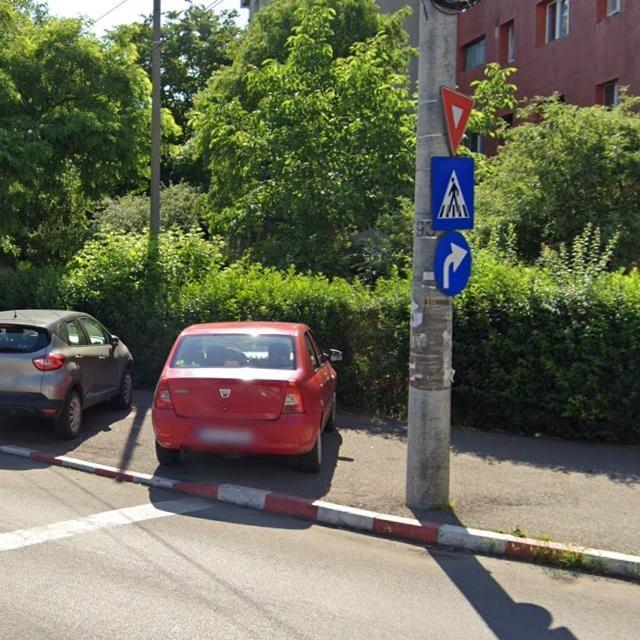info_crosswalk: (430, 159, 477, 229)
prio_give_way: (441, 86, 476, 157)
